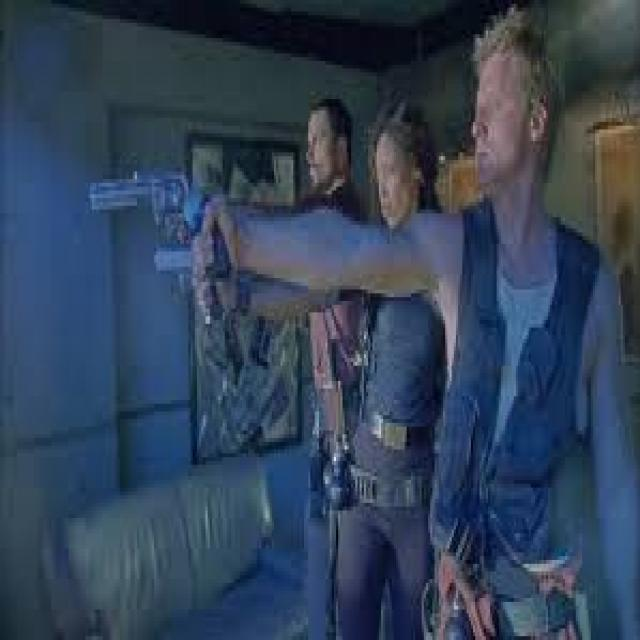Pistol: (68, 170, 262, 262)
